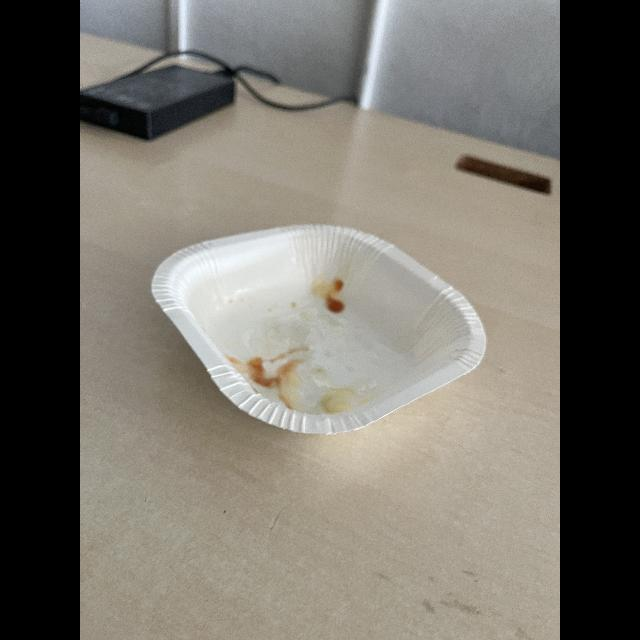cardboard_bowl: (140, 210, 496, 440)
